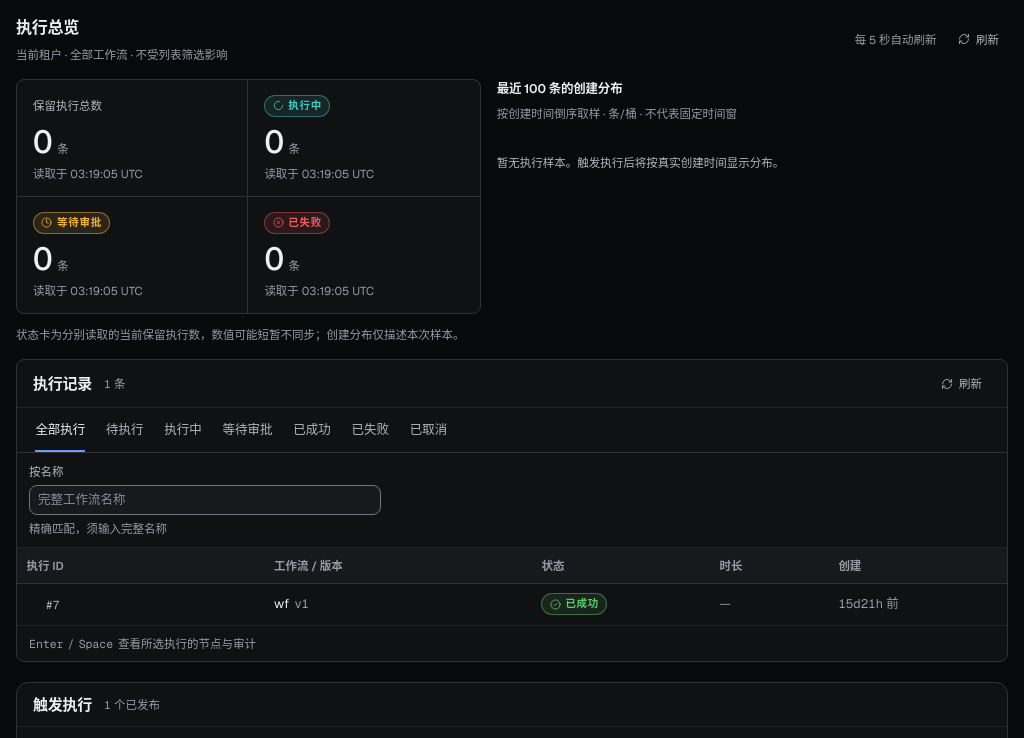
Test: ExecutionsView(执行面) › 快速换筛选后，旧页迟到的失败不会覆盖新结果或触发旧401登出
What coordinates should you click on to do the following:
click the tab "已失败"
I would click on:
 (370, 430)
Its box is [341,408,399,452].
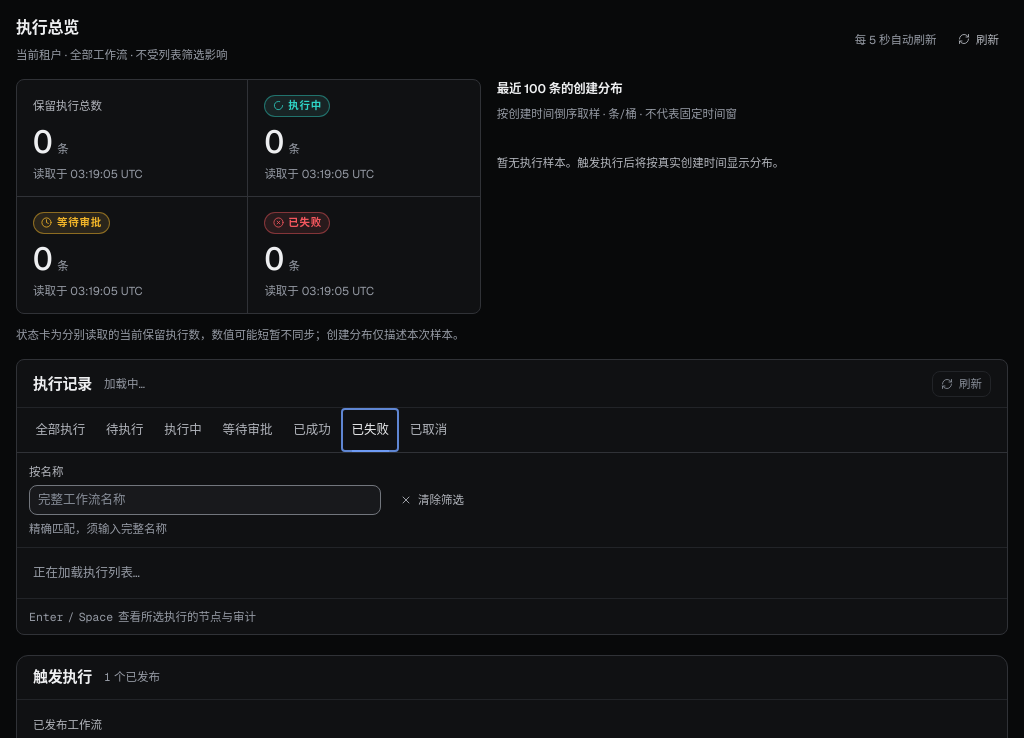
Now the text "正在加载执行列表…" is shown, box [33,564,140,581]
What coordinates should you click on to do the following:
click the tab "已成功"
I would click on:
 (312, 430)
Its box is [283,408,341,452].
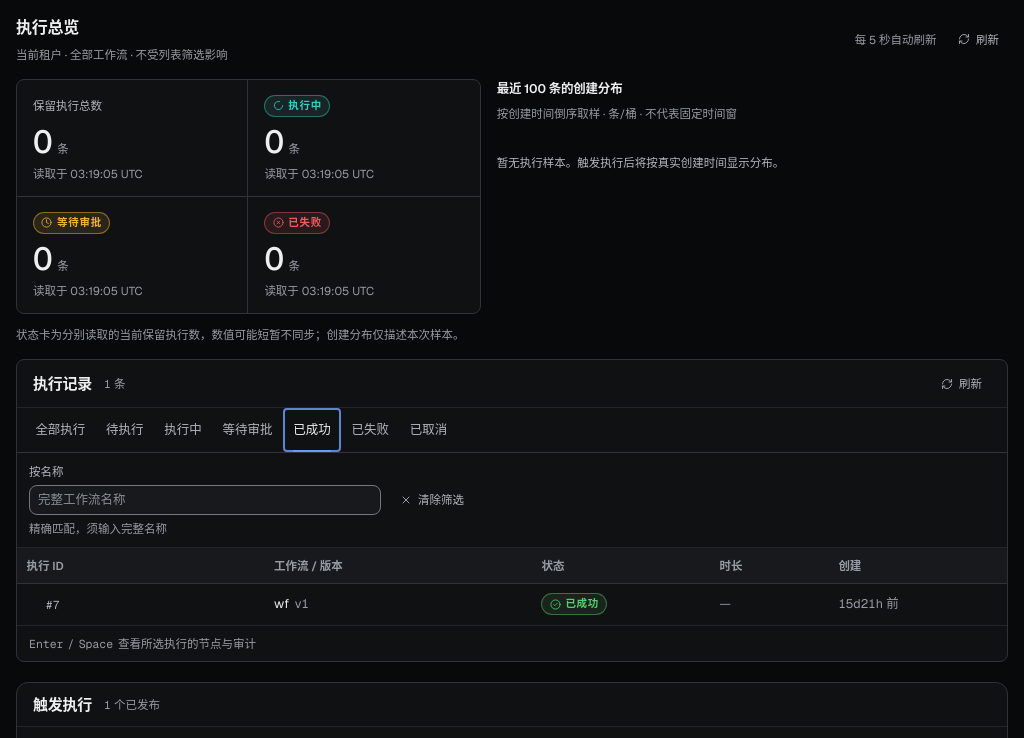
Now the message "正在加载执行列表…" is gone
